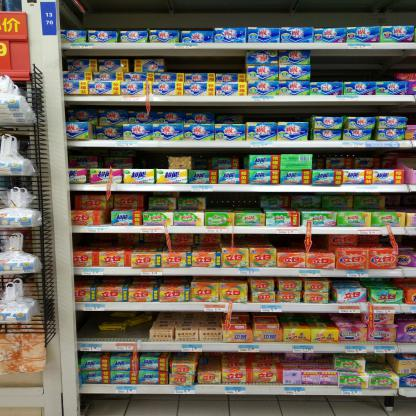Void: (315, 54, 398, 81), (79, 311, 143, 339), (75, 234, 162, 250), (164, 56, 242, 73), (219, 105, 306, 120), (314, 104, 414, 115), (70, 148, 129, 166), (209, 192, 259, 210), (276, 353, 326, 371), (228, 232, 274, 246), (369, 352, 396, 372), (286, 314, 330, 326), (136, 151, 167, 168), (216, 148, 244, 166), (194, 148, 212, 166), (391, 196, 411, 210), (280, 238, 303, 249), (201, 354, 216, 369), (315, 236, 329, 251), (366, 236, 386, 244), (400, 238, 414, 247)
